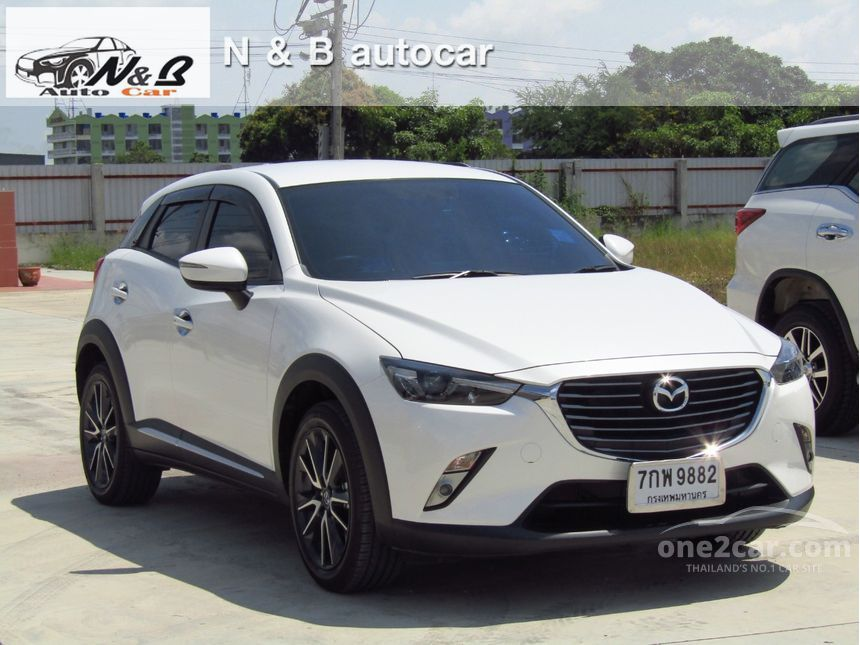pickup: (73, 161, 814, 594)
